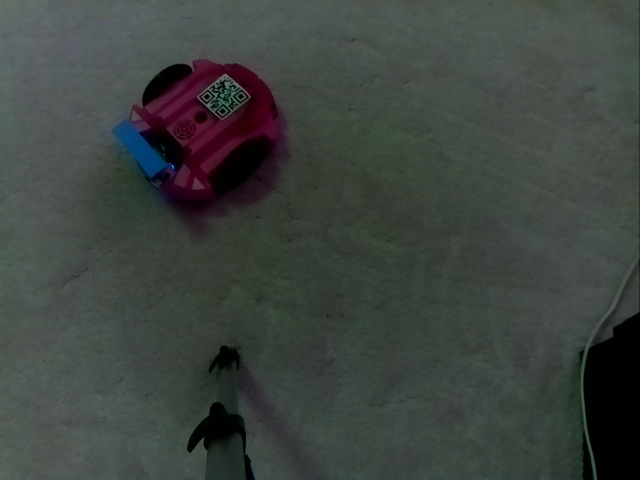board: (113, 117, 185, 176)
chassis: (125, 53, 281, 207)
